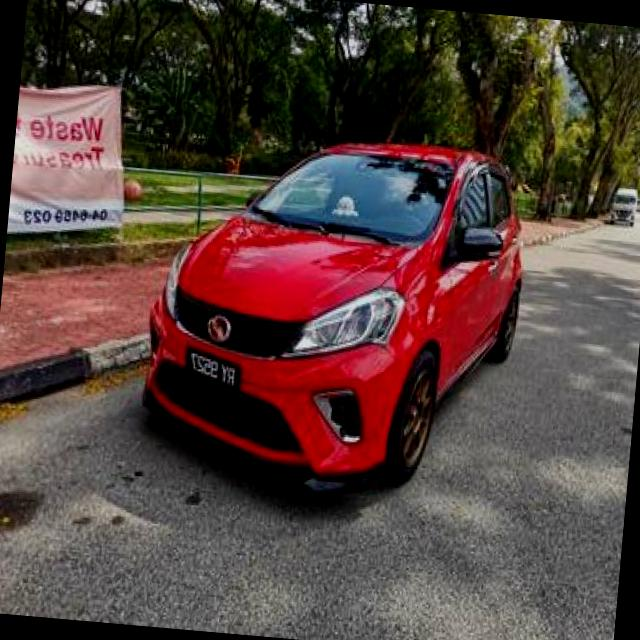PeroduaMyvi: (134, 117, 536, 510)
